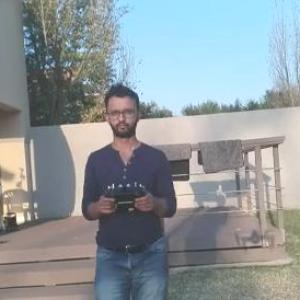follow: (78, 75, 184, 299)
